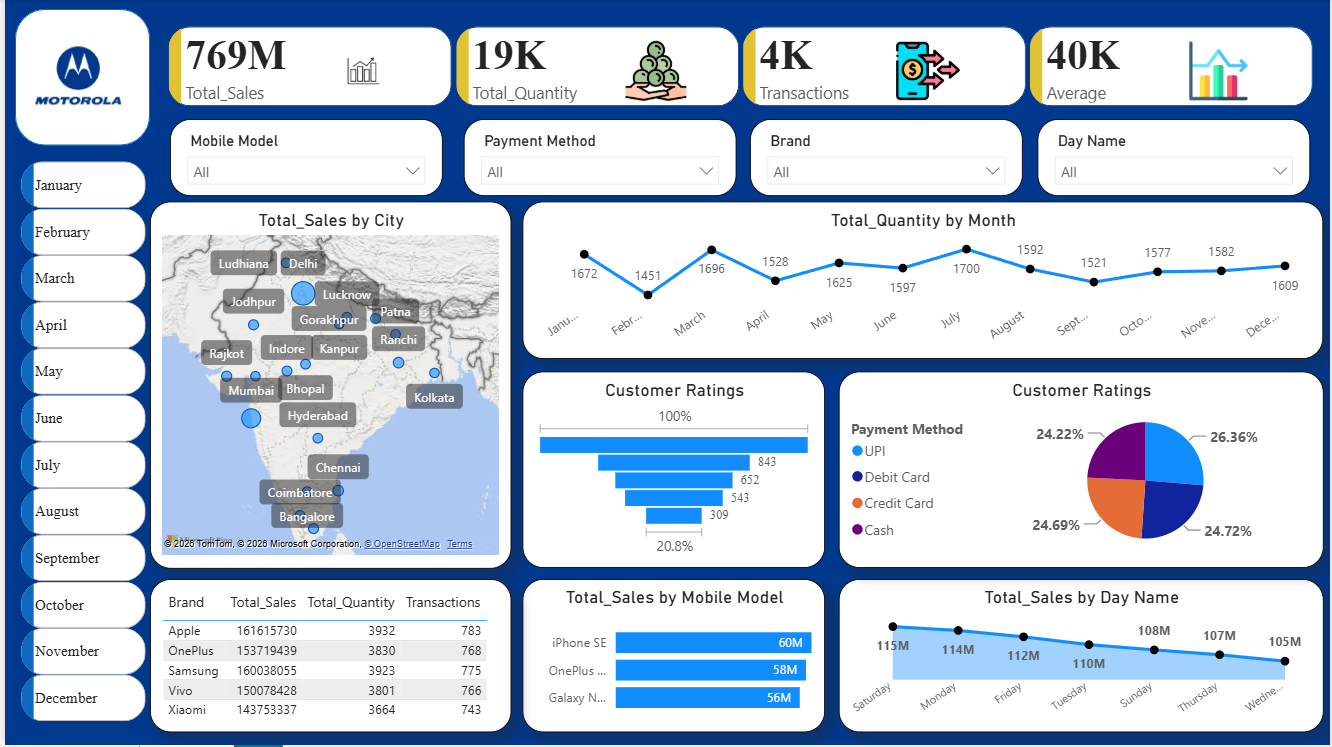

What the dashboard file says about the page in this screenshot:
{"tool":"powerbi","page":{"name":"Page 1","canvas":[1280,720],"ordinal":0},"visuals":[{"type":"shape","box":[9.6,9.6,130.4,131.7],"z":0},{"type":"image","box":[23.3,26.1,96.1,94.7],"z":1000},{"type":"advancedSlicerVisual","fields":{"Values":["Sales_Data.Date.Variation.Date Hierarchy.Month"]},"box":[11,152.3,130.4,555.7],"z":2000},{"type":"cardVisual","fields":{"Data":["Sales_Data.Total_Sales","Sales_Data.Total_Quantity","Sales_Data.Transactions","Sales_Data.Average"]},"box":[141.3,9.6,1138.9,111.1],"z":3000},{"type":"image","box":[289.5,38.4,112.5,61.7],"z":4000},{"type":"image","box":[575,38.4,105.7,61.7],"z":5000},{"type":"image","box":[835.7,38.4,109.8,61.7],"z":6000},{"type":"image","box":[1114.2,38.4,112.5,61.7],"z":7000},{"type":"map","fields":{"Category":["Sales_Data.City"],"Size":["Sales_Data.Total_Sales"]},"box":[140,194.9,348.5,354],"z":8000},{"type":"lineChart","fields":{"Y":["Sales_Data.Total_Quantity"],"Category":["Sales_Data.Date.Variation.Date Hierarchy.Month","Sales_Data.Date.Variation.Date Hierarchy.Day"]},"box":[499.5,194.9,772.6,152.3],"z":9000},{"type":"clusteredBarChart","fields":{"Category":["Sales_Data.Mobile Model"],"Y":["Sales_Data.Total_Sales"]},"box":[499.5,559.9,292.3,148.2],"z":10000},{"type":"areaChart","fields":{"Category":["Sales_Data.Day Name"],"Y":["Sales_Data.Total_Sales"]},"box":[804.1,559.9,467.9,148.2],"z":11000},{"type":"funnel","title":" Customer Ratings","fields":{"Category":["Sales_Data.Customer Ratings"],"Y":["CountNonNull(Sales_Data.Customer Ratings)"]},"box":[499.5,359.5,292.3,189.4],"z":12000},{"type":"pieChart","title":" Customer Ratings","fields":{"Y":["Sales_Data.Transactions"],"Category":["Sales_Data.Payment Method"]},"box":[804.1,359.5,467.9,189.4],"z":13000},{"type":"tableEx","fields":{"Values":["Sales_Data.Brand","Sales_Data.Total_Sales","Sales_Data.Total_Quantity","Sales_Data.Transactions"]},"box":[140,559.9,348.5,148.2],"z":14000},{"type":"slicer","fields":{"Values":["Sales_Data.Mobile Model"]},"box":[159.2,115.3,263.5,74.1],"z":15000},{"type":"slicer","fields":{"Values":["Sales_Data.Payment Method"]},"box":[443.2,115.3,263.5,74.1],"z":16000},{"type":"slicer","fields":{"Values":["Sales_Data.Brand"]},"box":[719,115.3,263.5,74.1],"z":17000},{"type":"slicer","fields":{"Values":["Sales_Data.Day Name"]},"box":[996.2,115.3,263.5,74.1],"z":18000}]}

Visuals, with their boxes in screenshot pixels (x1, y1, x2, y2), scaled from the page's 1280x720 canvas onto the 1332x747 screenshot:
shape: bbox=(10, 10, 146, 147)
image: bbox=(24, 27, 124, 125)
advancedSlicerVisual - Sales_Data.Date.Variation.Date Hierarchy.Month: bbox=(11, 158, 147, 735)
cardVisual - Sales_Data.Total_Sales x Sales_Data.Total_Quantity: bbox=(147, 10, 1331, 125)
image: bbox=(301, 40, 418, 104)
image: bbox=(598, 40, 708, 104)
image: bbox=(870, 40, 984, 104)
image: bbox=(1159, 40, 1277, 104)
map - Sales_Data.City x Sales_Data.Total_Sales: bbox=(146, 202, 508, 569)
lineChart - Sales_Data.Total_Quantity x Sales_Data.Date.Variation.Date Hierarchy.Month: bbox=(520, 202, 1324, 360)
clusteredBarChart - Sales_Data.Mobile Model x Sales_Data.Total_Sales: bbox=(520, 581, 824, 735)
areaChart - Sales_Data.Day Name x Sales_Data.Total_Sales: bbox=(837, 581, 1324, 735)
" Customer Ratings" funnel: bbox=(520, 373, 824, 569)
" Customer Ratings" pieChart: bbox=(837, 373, 1324, 569)
tableEx - Sales_Data.Brand x Sales_Data.Total_Sales: bbox=(146, 581, 508, 735)
slicer - Sales_Data.Mobile Model: bbox=(166, 120, 440, 197)
slicer - Sales_Data.Payment Method: bbox=(461, 120, 735, 197)
slicer - Sales_Data.Brand: bbox=(748, 120, 1022, 197)
slicer - Sales_Data.Day Name: bbox=(1037, 120, 1311, 197)
